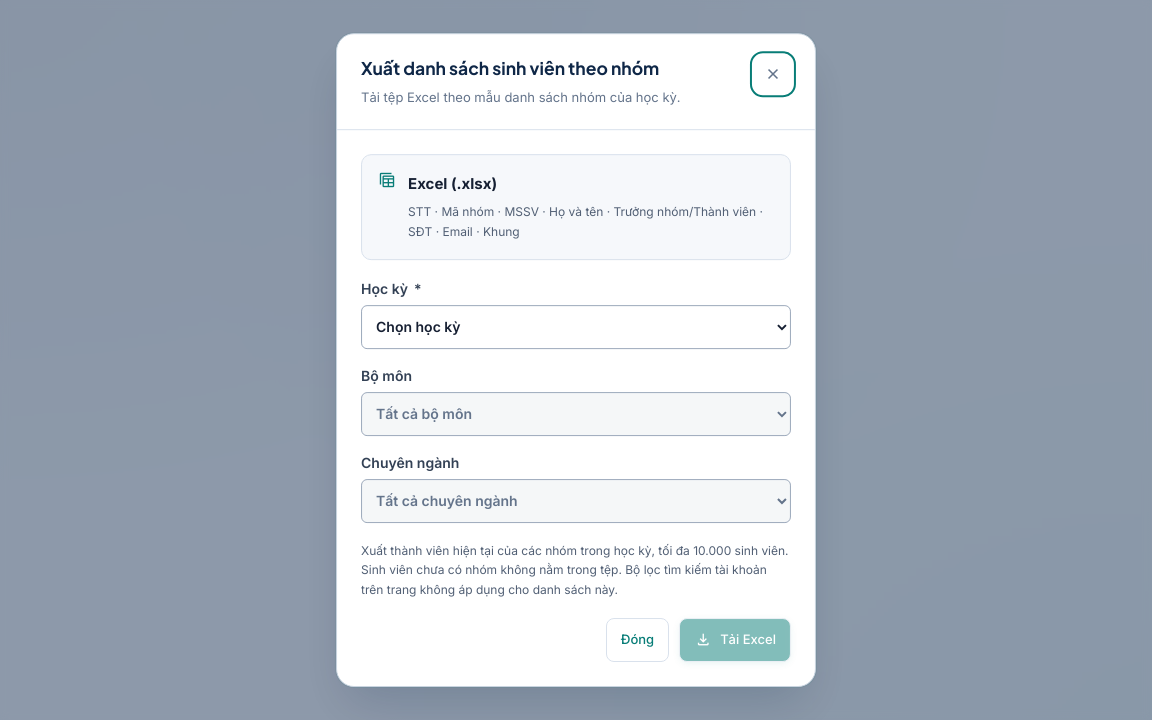
Test: requires a semester and limits department choices to that organization
expect the button "Tải Excel" is disabled: met, box x1=679 y1=618 x2=791 y2=662
Select "FA26 · Fall 2026 (FPT)" in the dropdown labelled "Học kỳ *" at (576, 327), box x1=361 y1=305 x2=791 y2=349
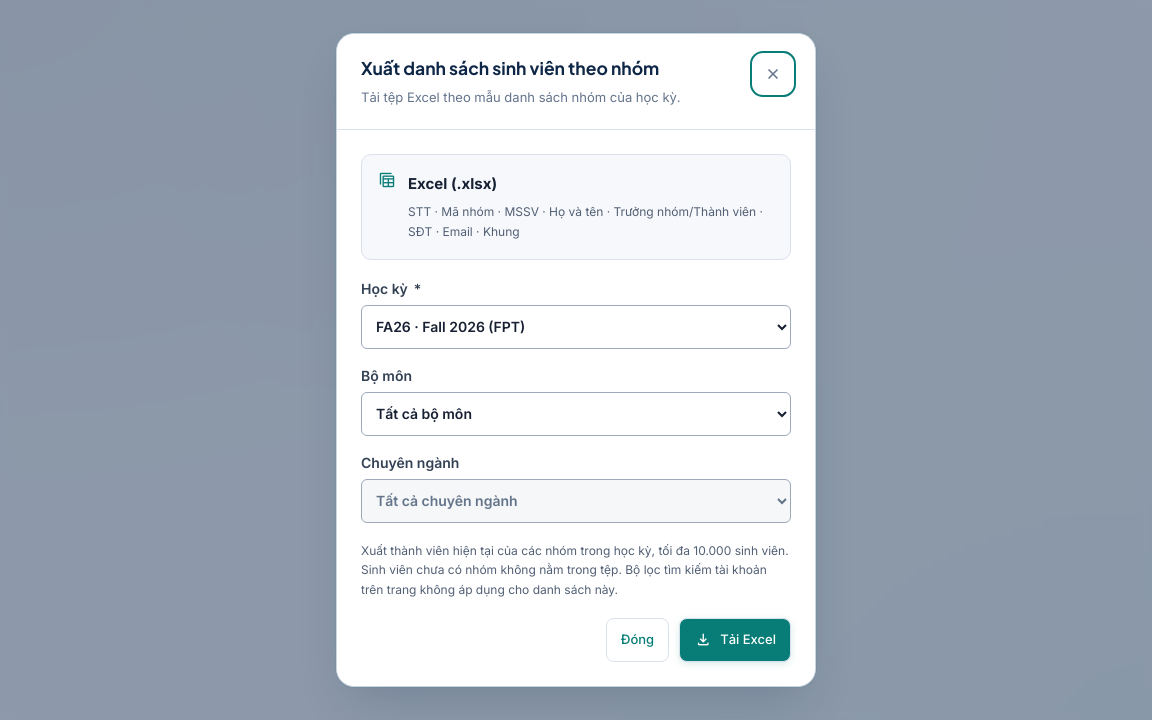
expect the text "Sinh viên chưa có nhóm" is shown: met, box x1=361 y1=543 x2=789 y2=597
expect the button "Tải Excel" is enabled: met, box x1=679 y1=618 x2=791 y2=662
